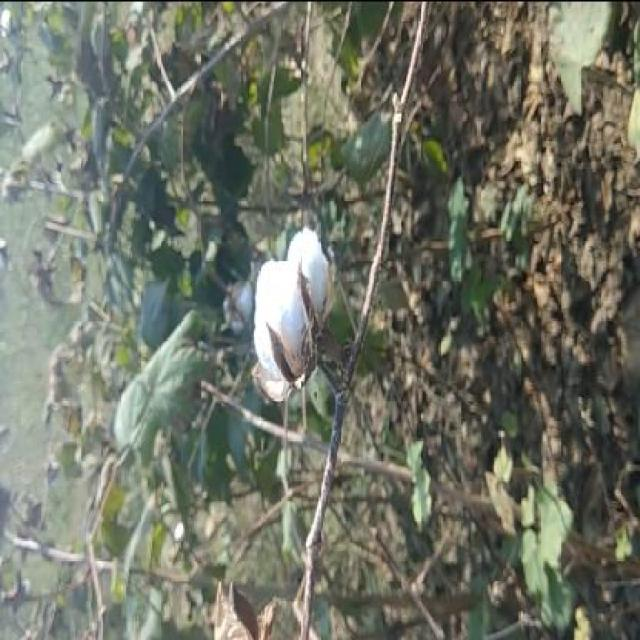cotton_ready: (245, 228, 362, 414)
